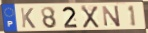1: (127, 4, 137, 28)
2: (61, 6, 78, 29)
8: (41, 6, 58, 30)
K: (20, 7, 37, 29)
N: (101, 5, 122, 28)
X: (80, 5, 101, 29)
